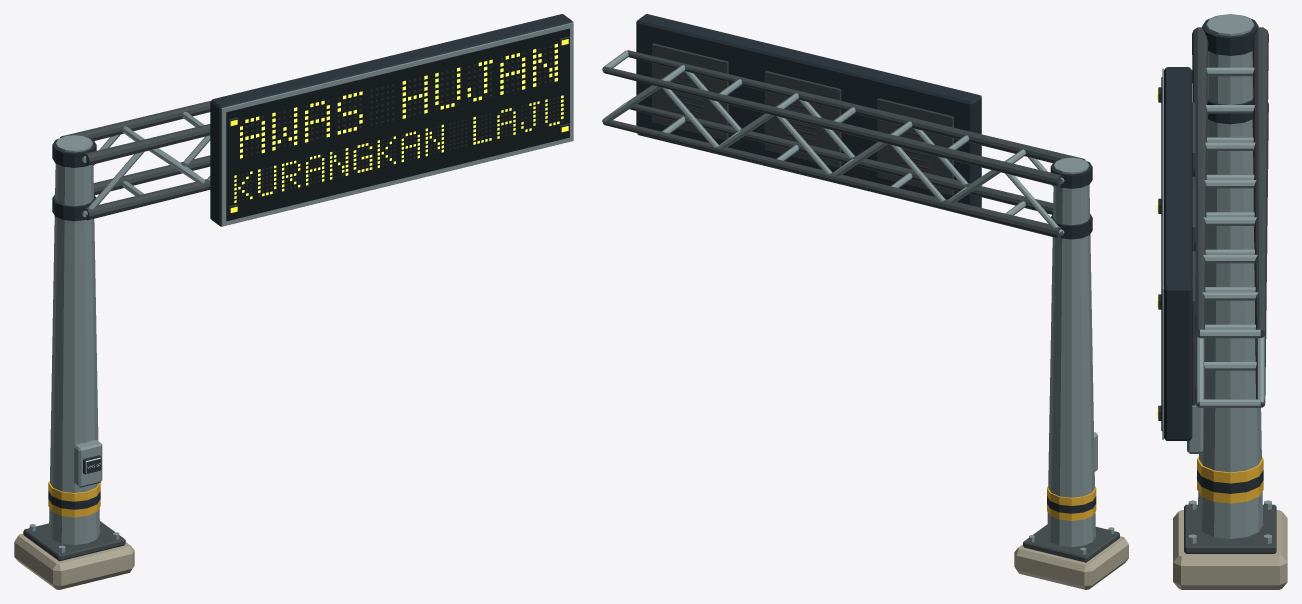
3 renders of one model, left to right at view 1: azimuth 30°, elevation 25°; view 2: azimuth 150°, elevation 25°; view 3: azimuth 270°, elevation 25°, orthographic. The views are drawn at different scales.
Parts seen in each view (by area): view 1: Weather Matrix Enclosure, Tubular Mast, Weather Matrix Pixels, Cantilever Chords, Foundation, Cantilever Webs, Column Base and Anchors, Verge Hazard Collar, Mast Controller, Mast Connections; view 2: Weather Matrix Enclosure, Cantilever Chords, Tubular Mast, Rear Service Hatches, Cantilever Webs, Foundation, Column Base and Anchors, Verge Hazard Collar, Mast Connections; view 3: Tubular Mast, Weather Matrix Enclosure, Cantilever Chords, Cantilever Webs, Foundation, Column Base and Anchors, Verge Hazard Collar, Mast Connections, Rear Service Hatches, Mast Controller, Flash Indicators.
Boxes of the visible parts, left/top/right/bottom form: Weather Matrix Enclosure: left=210, top=14, right=573, bottom=226; Tubular Mast: left=49, top=135, right=99, bottom=544; Weather Matrix Pixels: left=234, top=43, right=563, bottom=202; Cantilever Chords: left=60, top=100, right=210, bottom=220; Foundation: left=14, top=533, right=134, bottom=589; Cantilever Webs: left=82, top=111, right=210, bottom=217; Column Base and Anchors: left=23, top=521, right=125, bottom=561; Verge Hazard Collar: left=48, top=481, right=100, bottom=517; Mast Controller: left=74, top=440, right=102, bottom=487; Mast Connections: left=52, top=136, right=96, bottom=221; Weather Matrix Enclosure: left=636, top=14, right=981, bottom=207; Cantilever Chords: left=603, top=50, right=1085, bottom=238; Tubular Mast: left=1047, top=157, right=1095, bottom=547; Rear Service Hatches: left=652, top=43, right=953, bottom=195; Cantilever Webs: left=602, top=50, right=1064, bottom=235; Foundation: left=1014, top=536, right=1128, bottom=589; Column Base and Anchors: left=1023, top=524, right=1119, bottom=562; Verge Hazard Collar: left=1047, top=486, right=1096, bottom=520; Mast Connections: left=1050, top=159, right=1092, bottom=239; Tubular Mast: left=1197, top=14, right=1263, bottom=538; Weather Matrix Enclosure: left=1161, top=67, right=1192, bottom=440; Cantilever Chords: left=1192, top=27, right=1268, bottom=407; Cantilever Webs: left=1196, top=67, right=1264, bottom=407; Foundation: left=1173, top=510, right=1287, bottom=589; Column Base and Anchors: left=1184, top=500, right=1276, bottom=553; Verge Hazard Collar: left=1197, top=456, right=1263, bottom=503; Mast Connections: left=1202, top=16, right=1258, bottom=124; Rear Service Hatches: left=1192, top=102, right=1195, bottom=405; Mast Controller: left=1187, top=405, right=1203, bottom=453; Flash Indicators: left=1157, top=87, right=1161, bottom=420.
Bounding box in the file's own units: 9.45 × 7.75 × 1.59.
